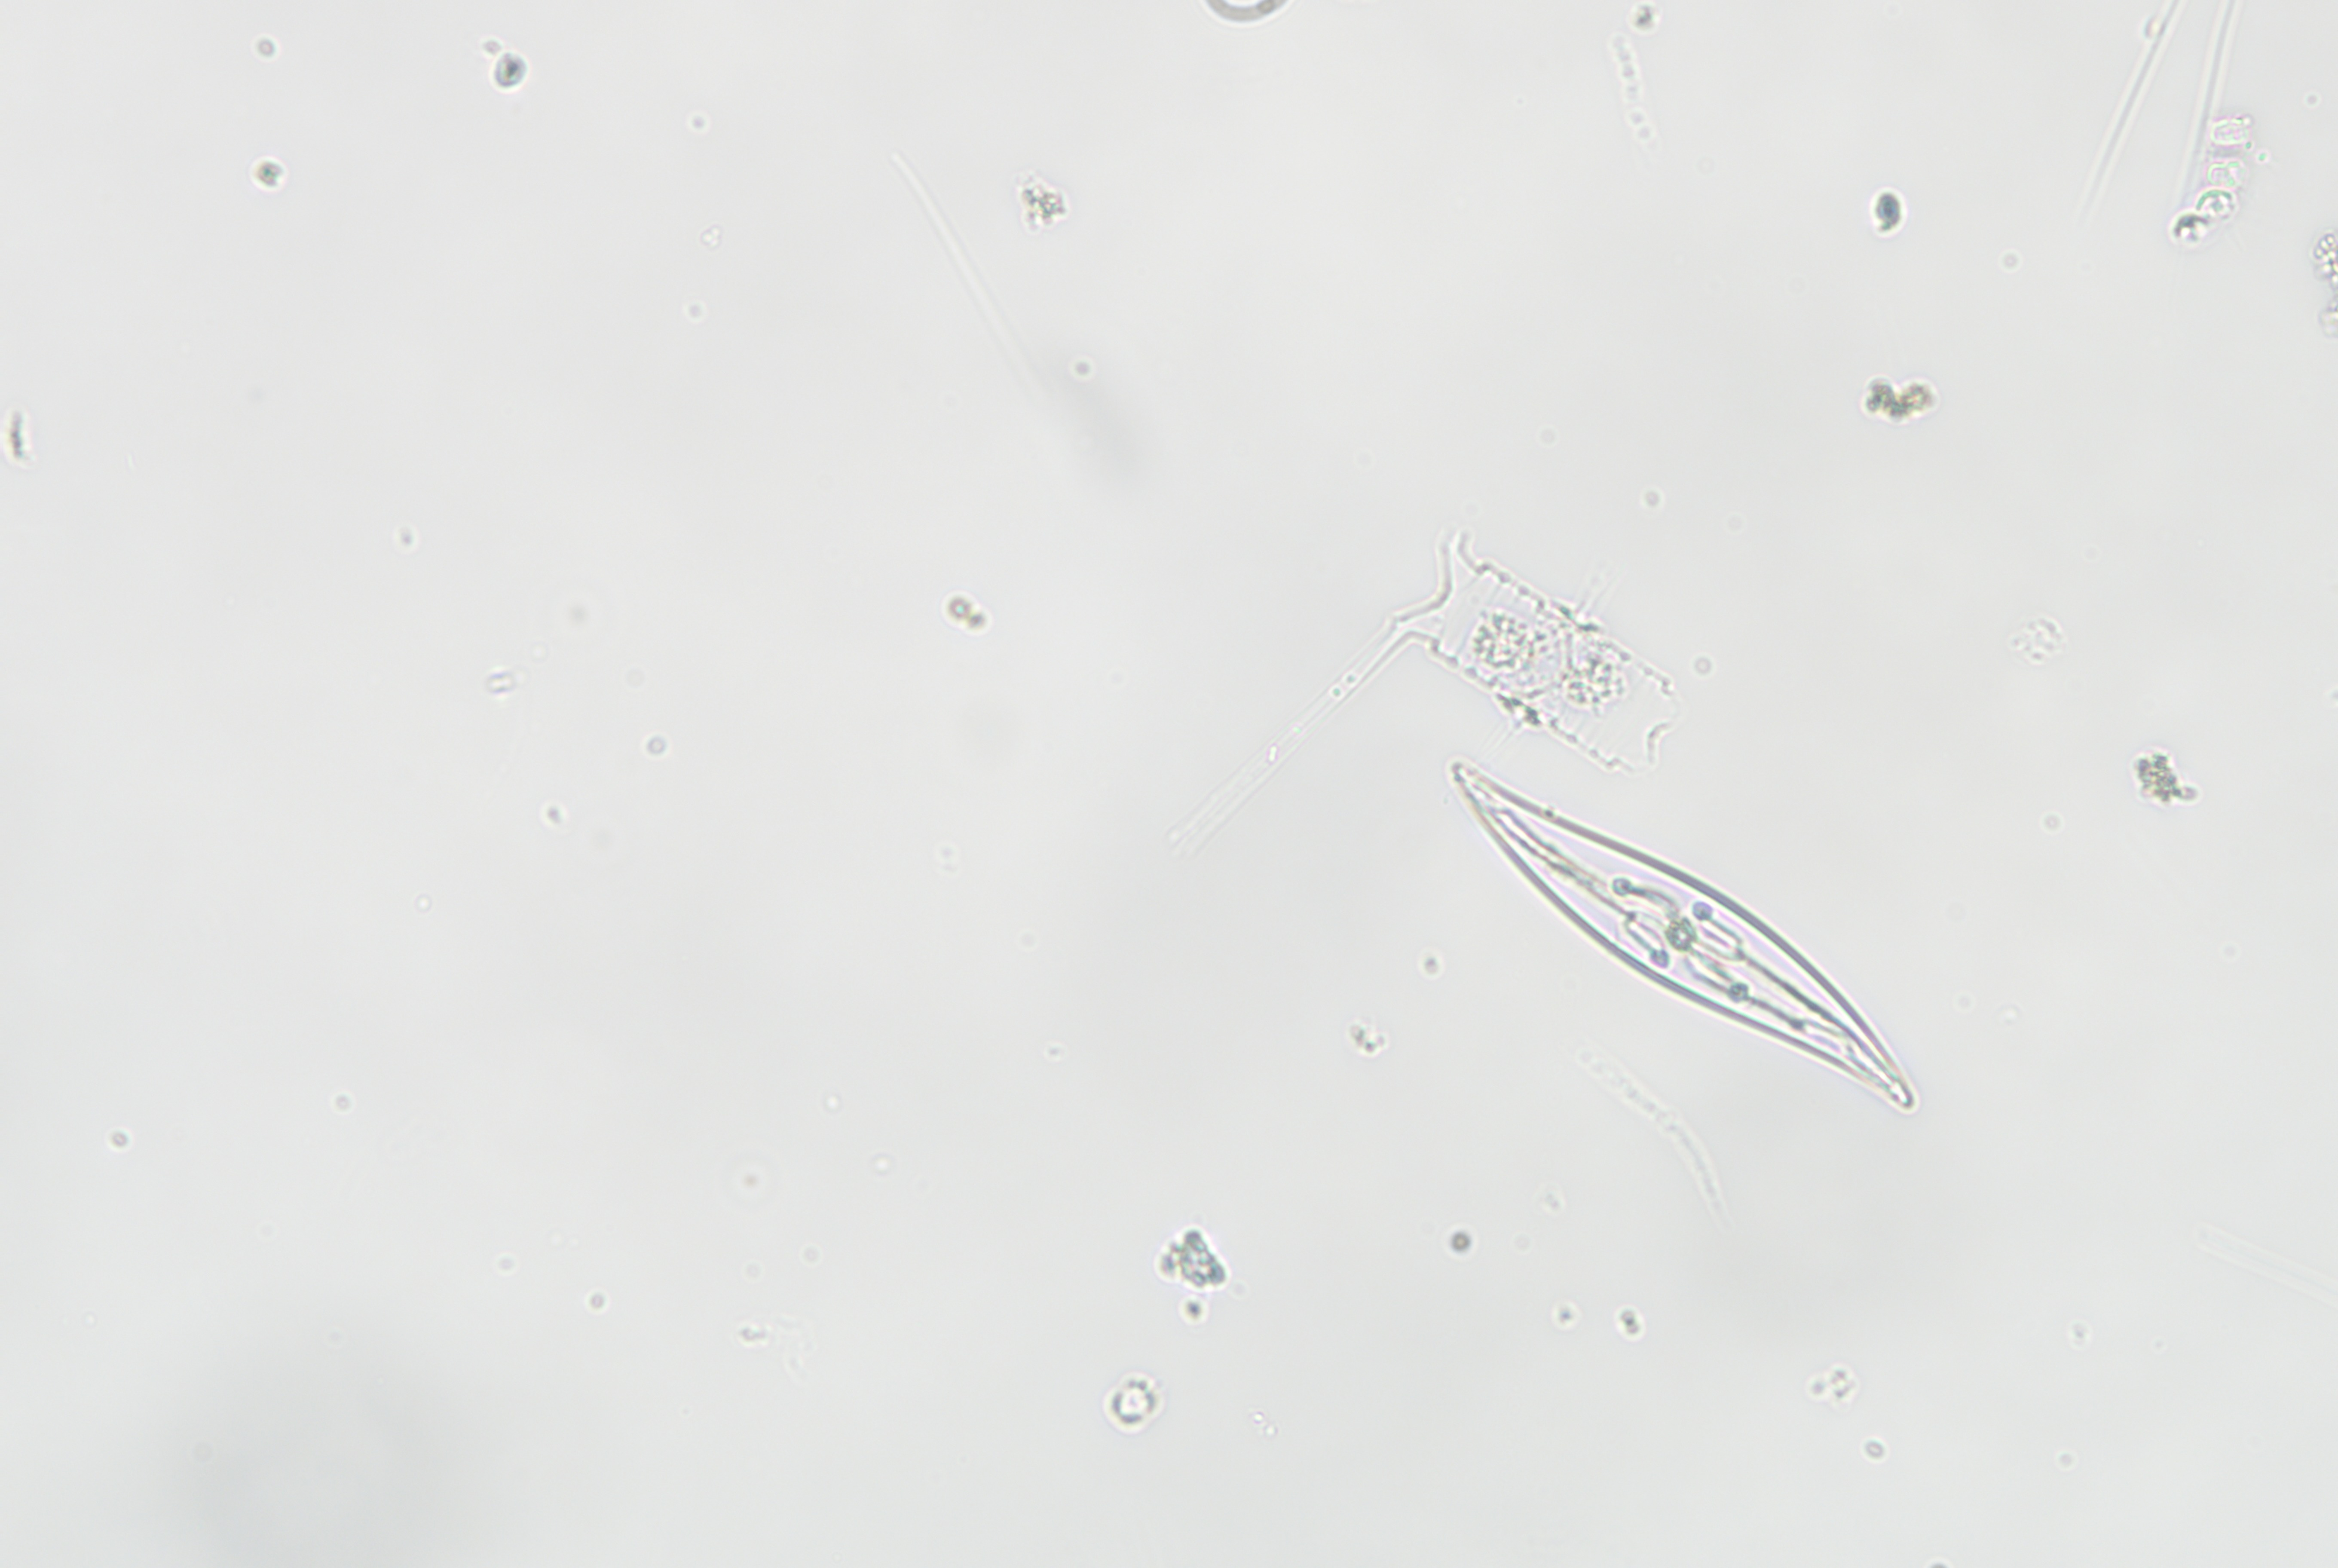pleurosigma pelagicum: (1442, 754, 1934, 1155)
